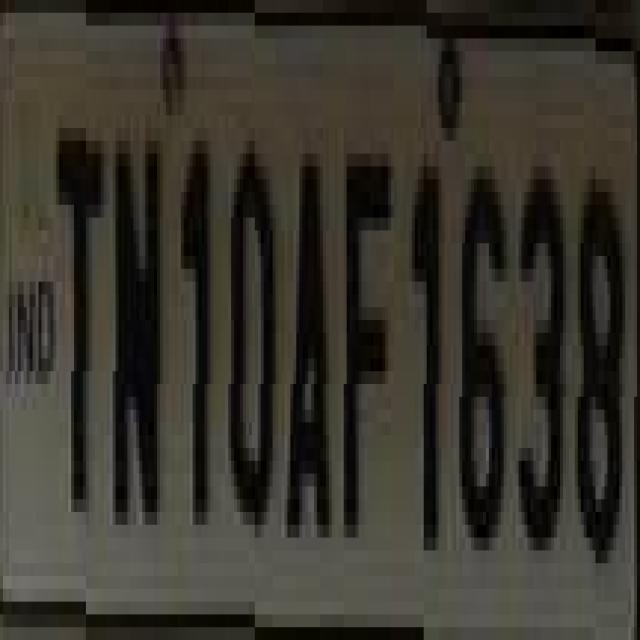license_plate: (0, 13, 607, 640)
